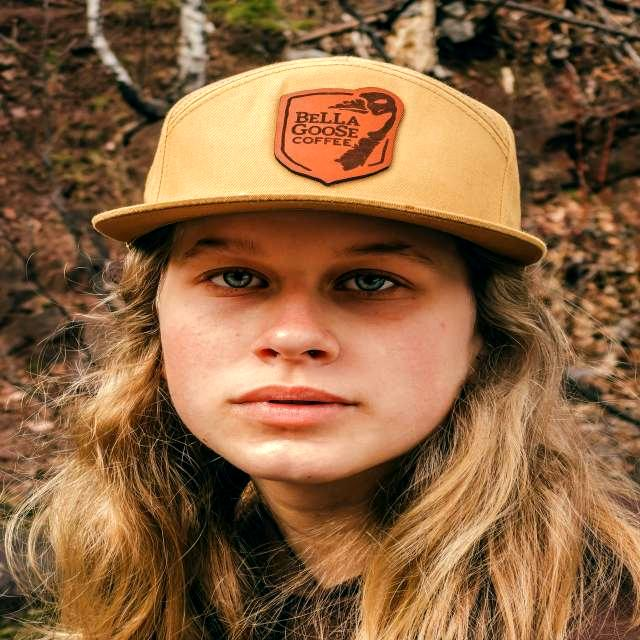no_hard_hat: (93, 58, 546, 264)
person: (50, 59, 638, 640)
